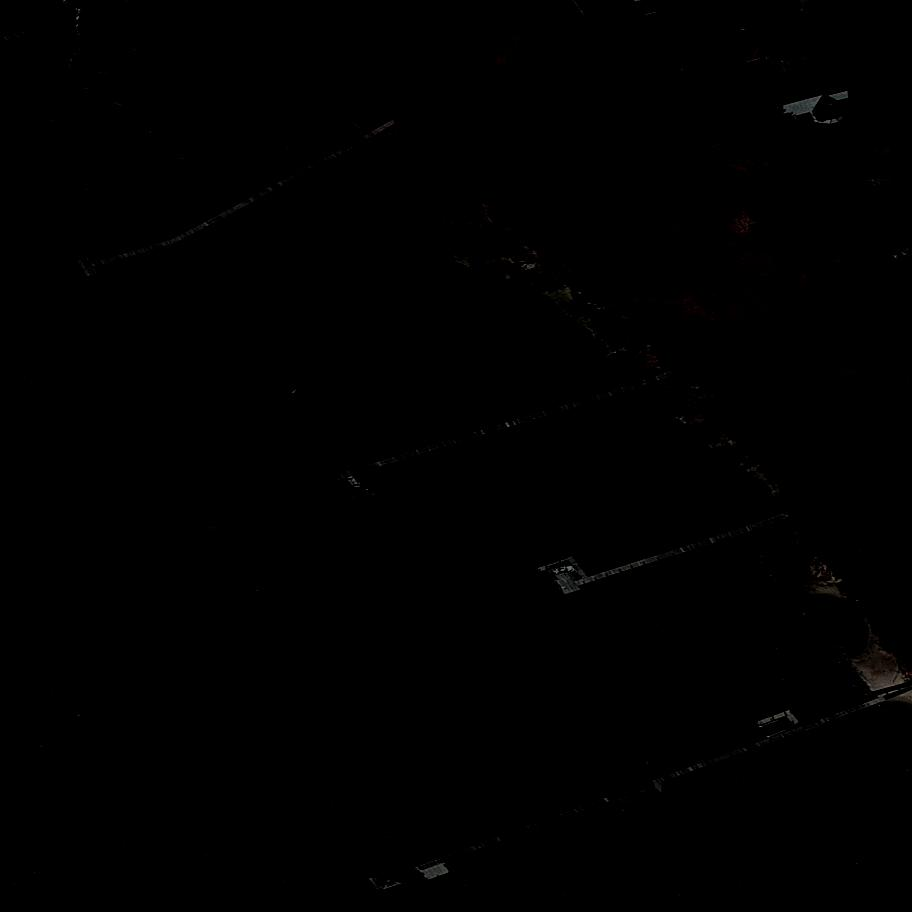ship: (549, 566, 576, 580), (347, 475, 362, 492)
